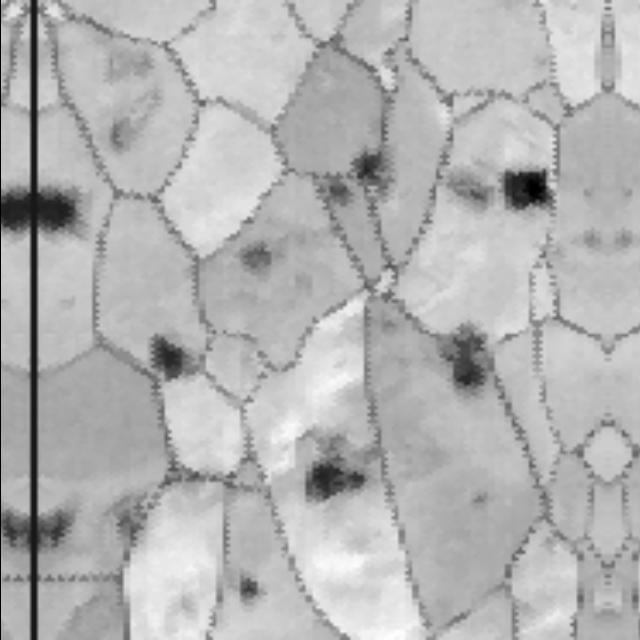good_void: (99, 53, 163, 151), (303, 432, 378, 500), (438, 326, 487, 389), (442, 158, 490, 216), (501, 165, 548, 209), (35, 192, 72, 242), (235, 239, 283, 273), (353, 153, 385, 202), (150, 338, 184, 381), (0, 192, 29, 242), (36, 506, 61, 556), (3, 506, 28, 556), (463, 487, 487, 517), (373, 312, 394, 336), (579, 228, 599, 253), (614, 228, 634, 253), (325, 179, 344, 205), (237, 579, 255, 604)
